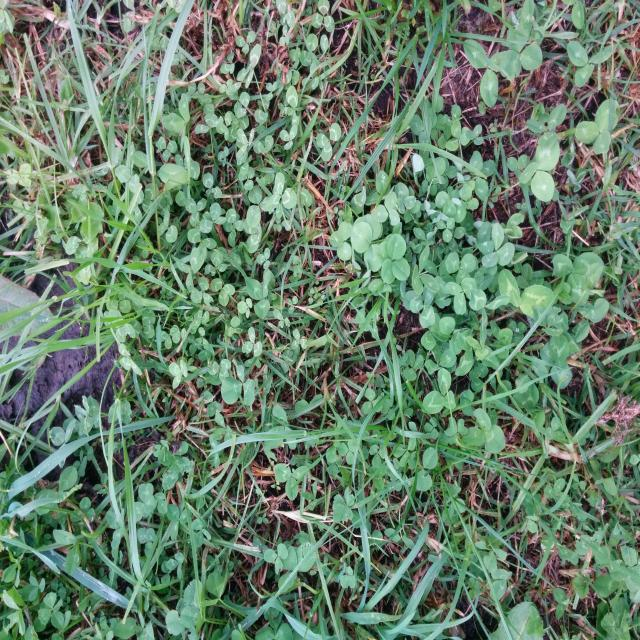Four Leaf Clover: (376, 234, 410, 284)
